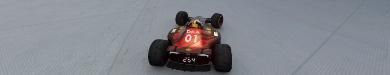Car: (147, 10, 232, 72)
grass: (0, 0, 389, 74)
